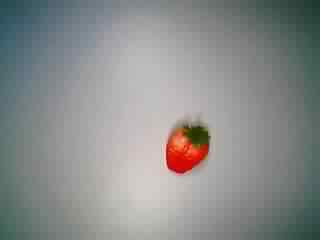strawberry: (147, 113, 215, 177)
